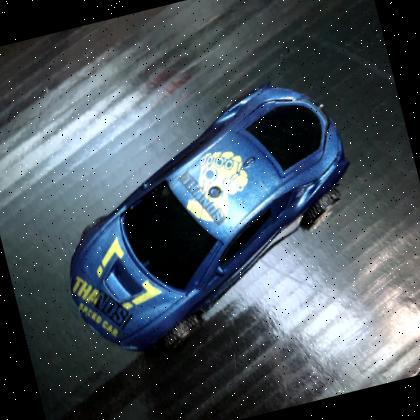Car: (68, 86, 349, 353)
